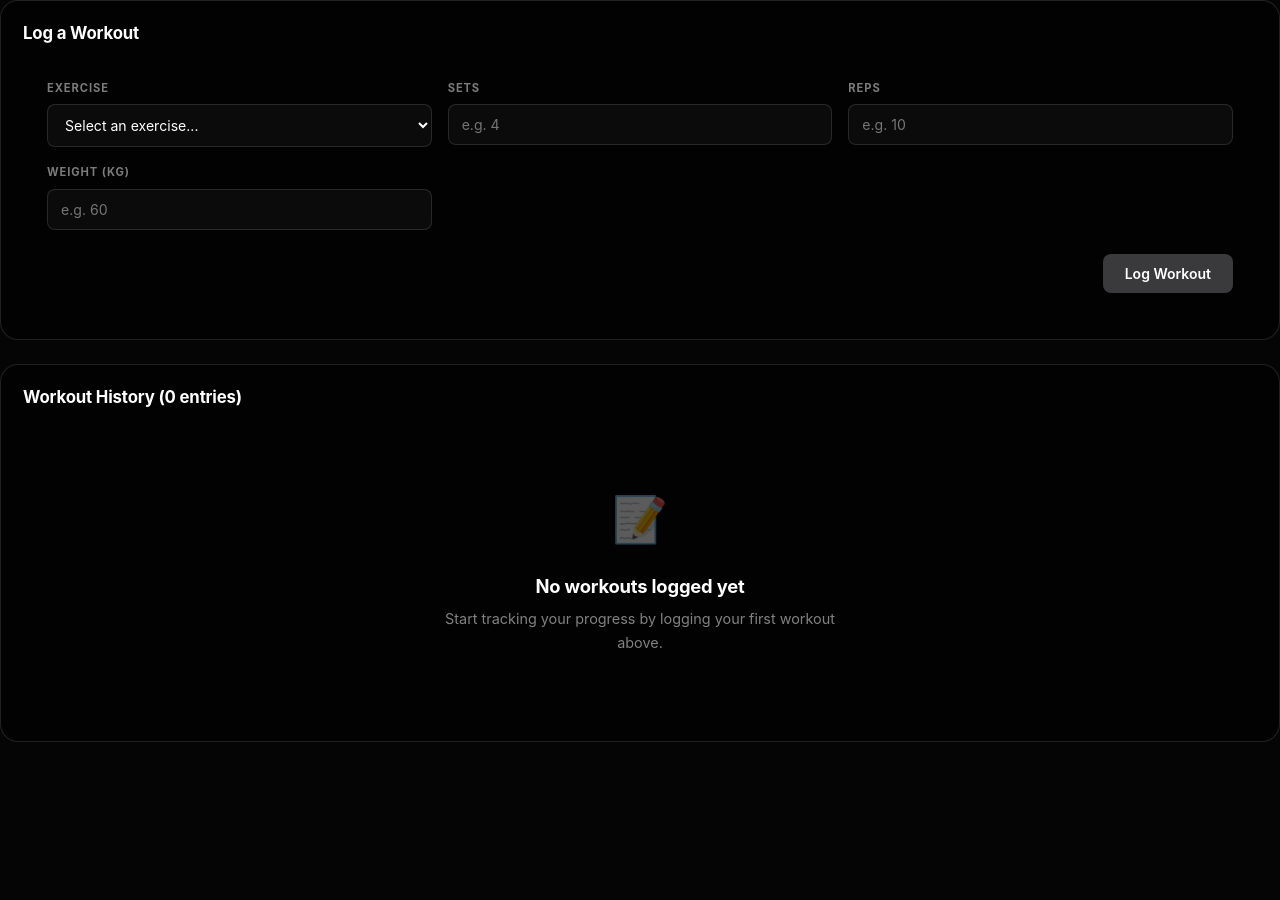
Workout Flow Integration › allows user to log a workout through the form
Select "Barbell Bench Press" in the dropdown labelled "Exercise": [239, 126] box [47,104,432,147]
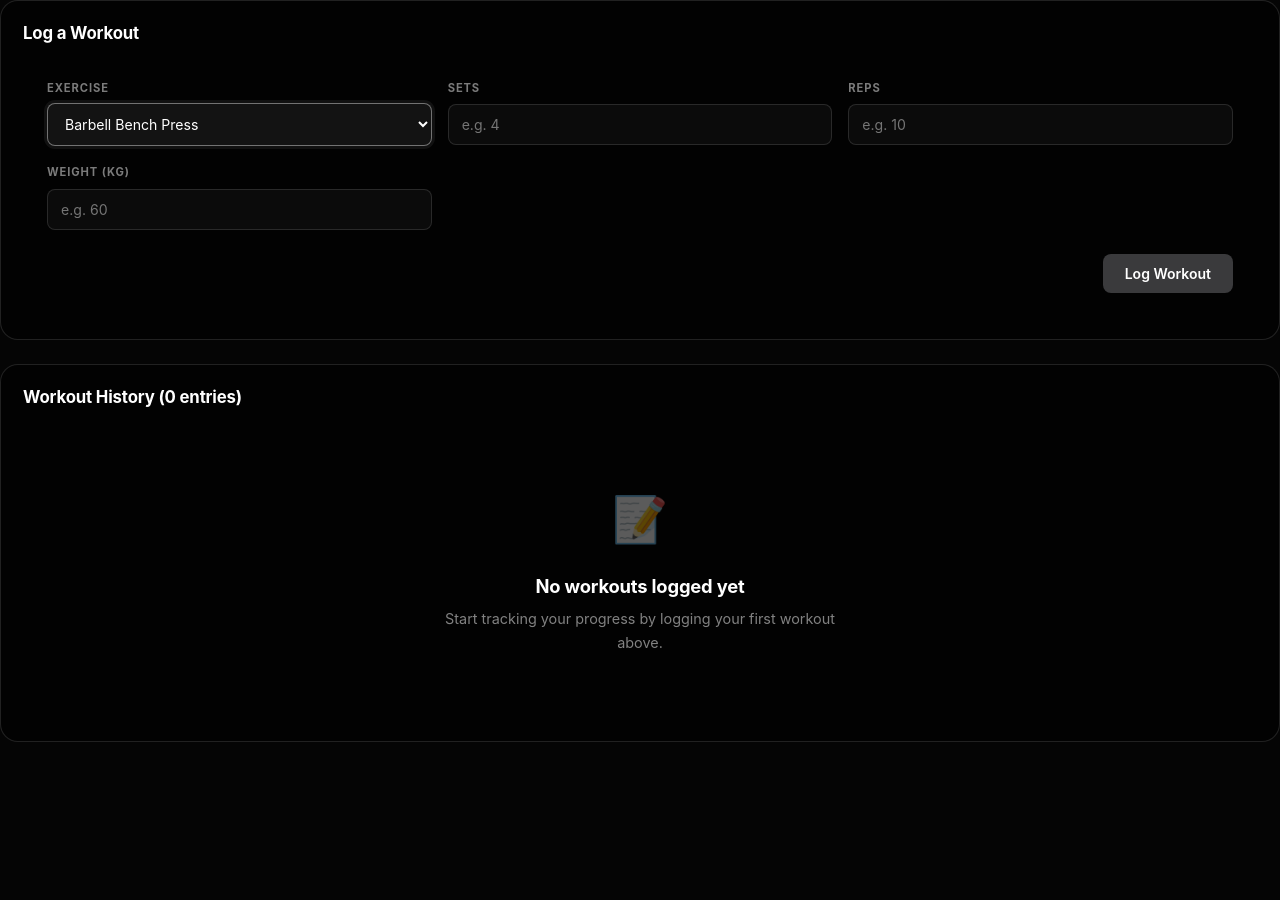
In the number field labelled "Sets": [640, 125] box [448,104,832,145], type "4"
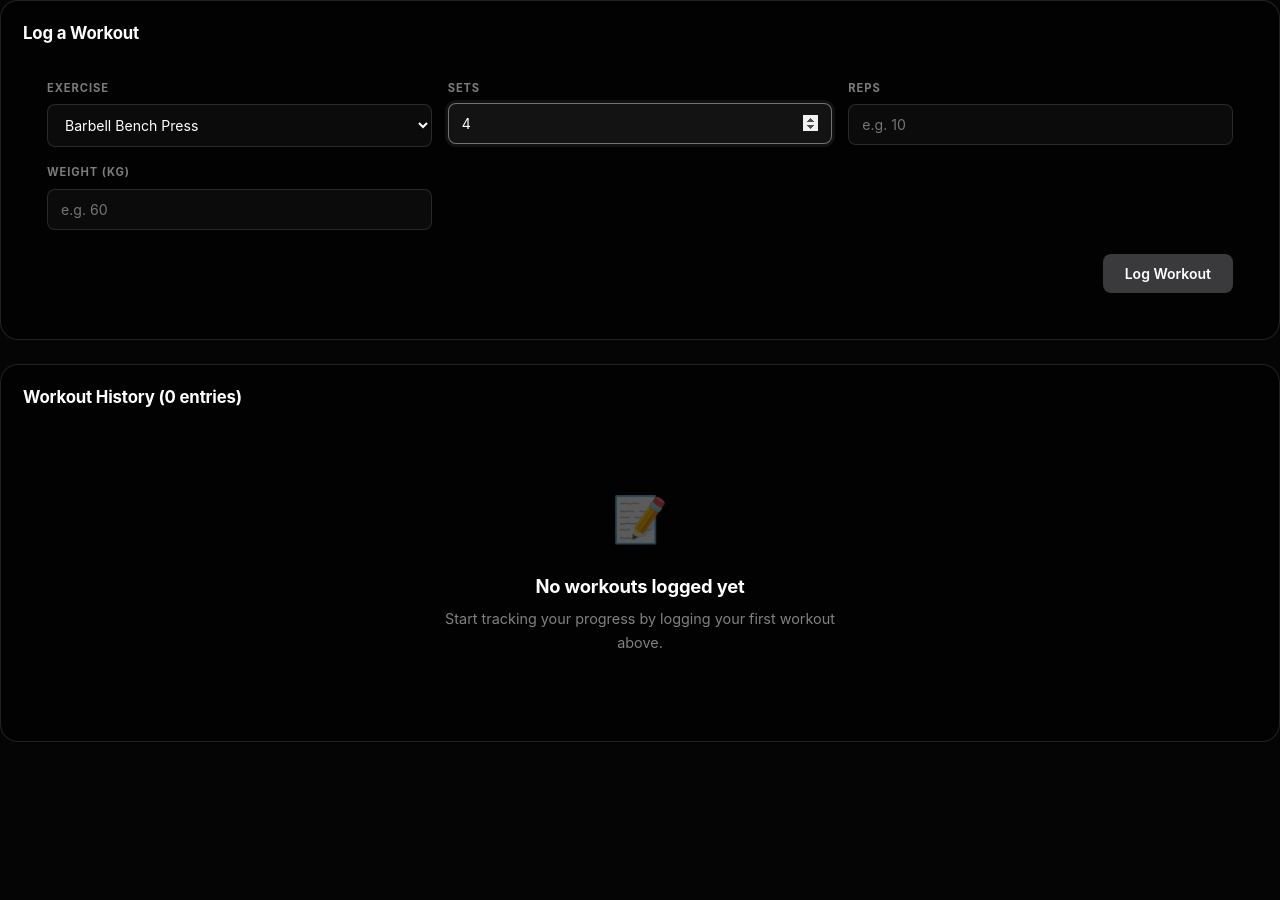
In the number field labelled "Reps": [1041, 125] box [848,104,1233,145], type "10"
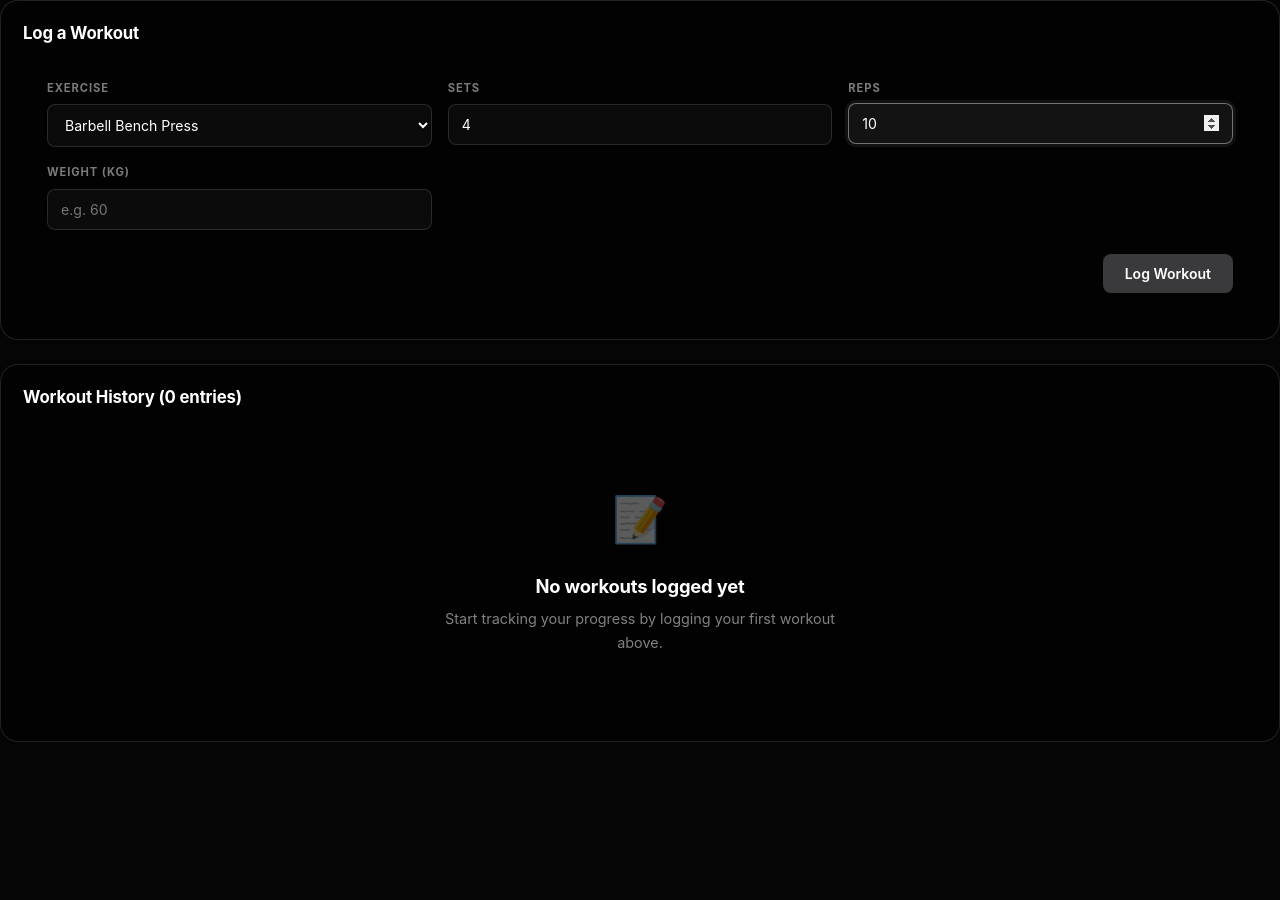
In the number field labelled "Weight (kg)": [239, 209] box [47,189,432,230], type "60"
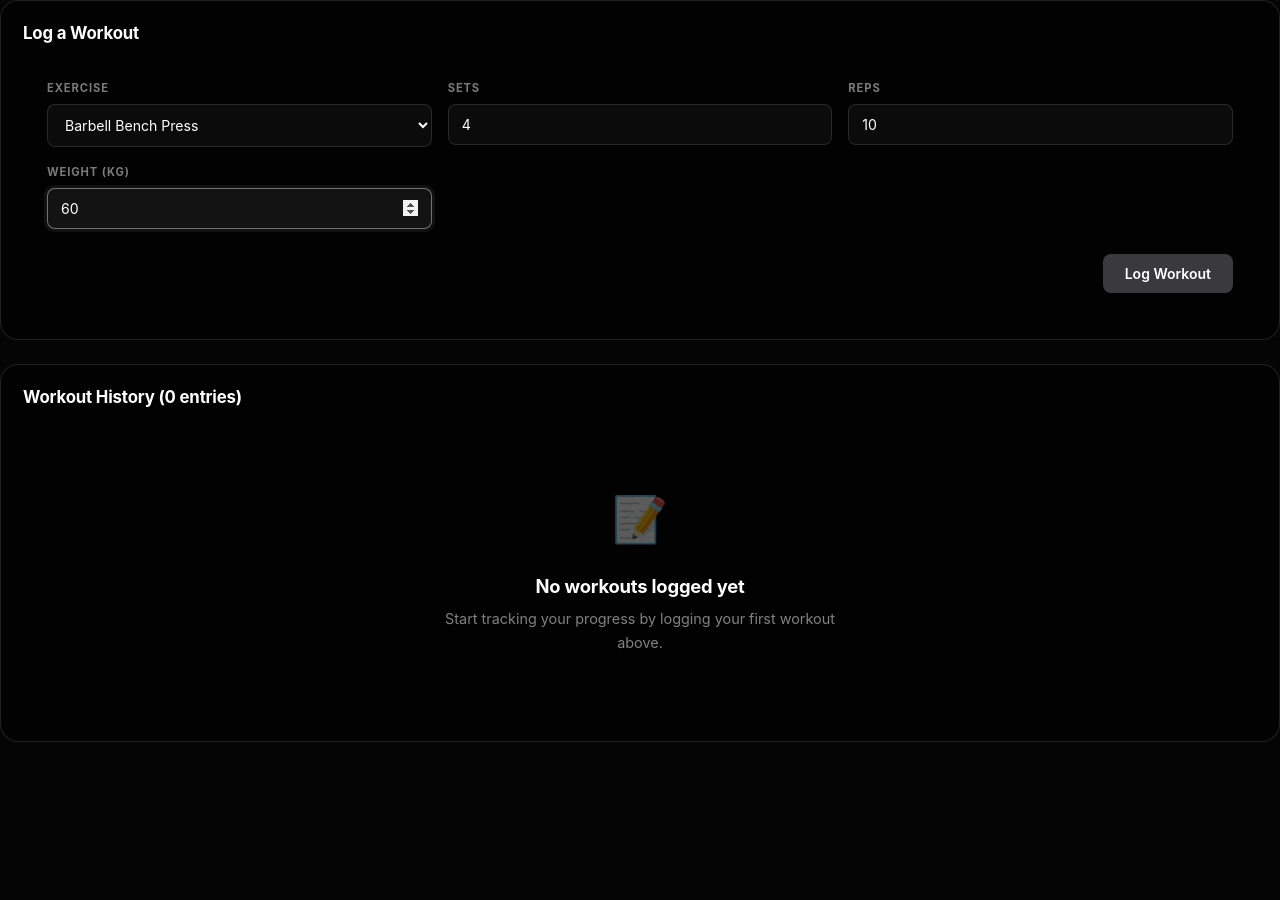
Click the button "Log Workout": [1168, 274] box [1103,254,1233,293]
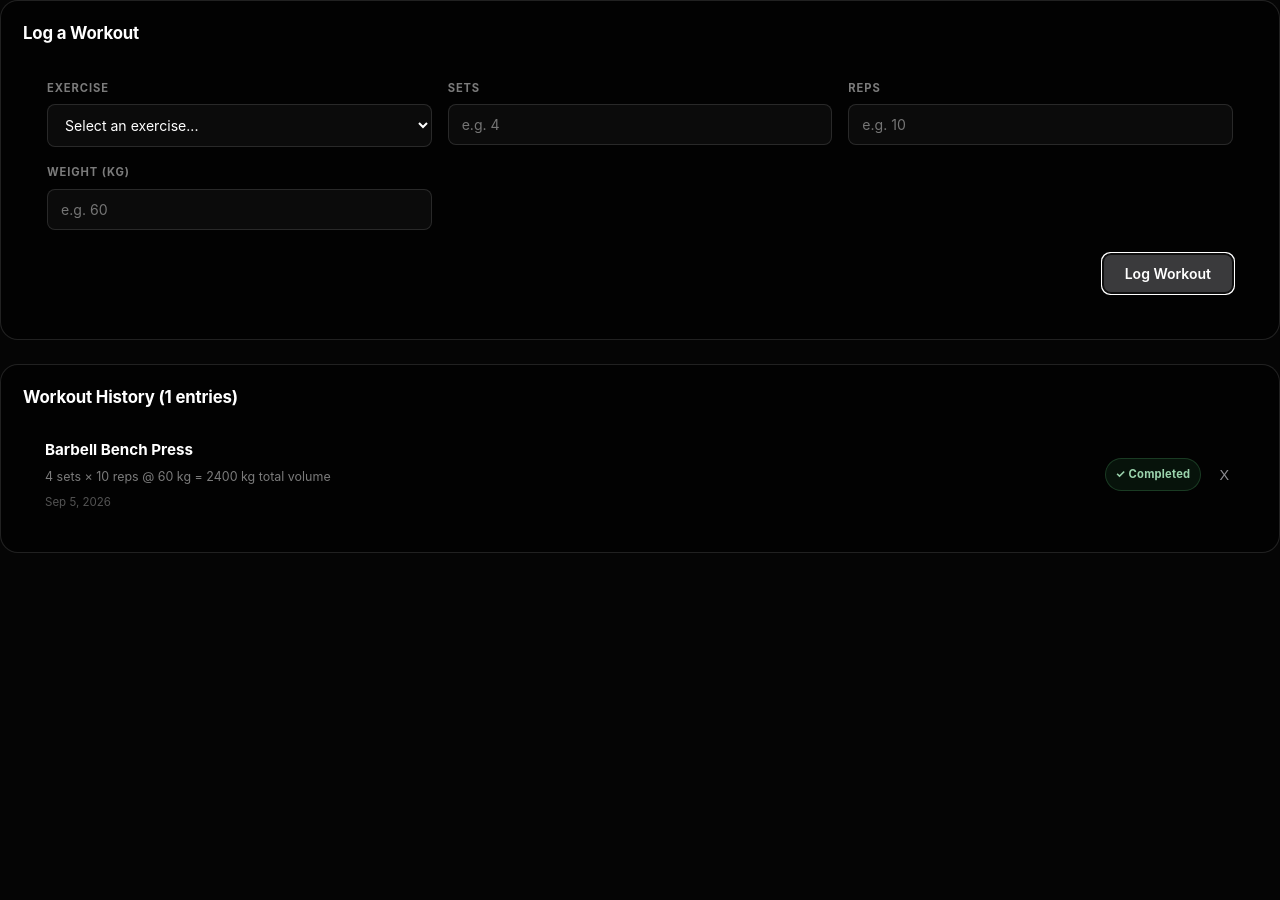
Result: the text "Barbell Bench Press" is shown 2 times
Result: the text "4 sets × 10 reps @ 60 kg = 2400 kg total volume" is shown at [45,467,331,488]
